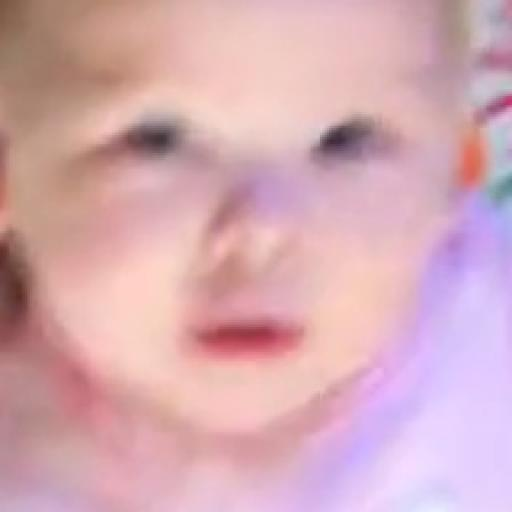Autism: (2, 23, 463, 441)
